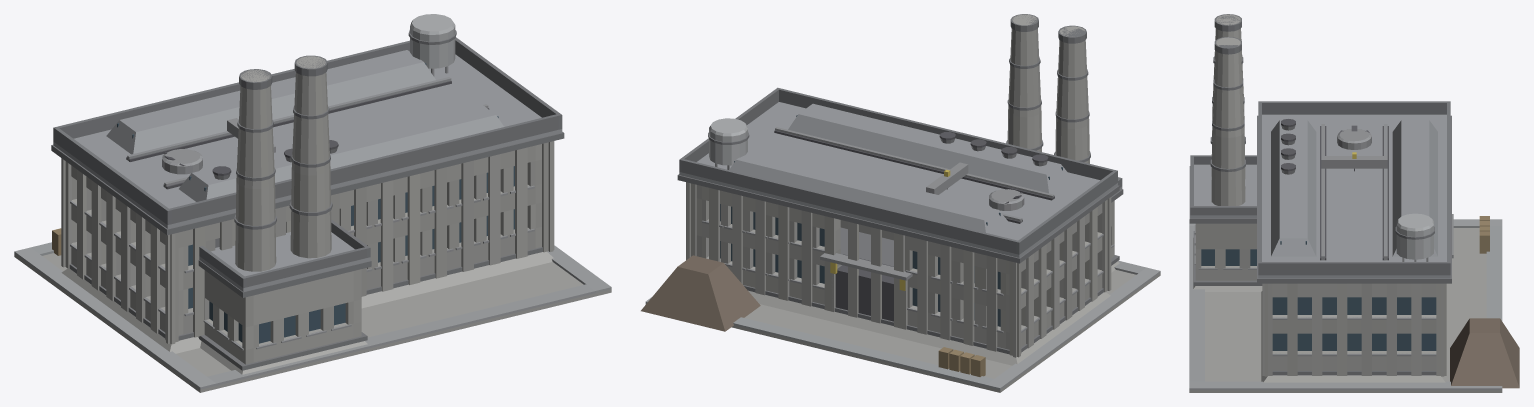
The model's file is soviet_factory.glb.
3 renders of one model, left to right at view 1: azimuth 30°, elevation 25°; view 2: azimuth 150°, elevation 25°; view 3: azimuth 270°, elevation 25°, orthographic. The views are drawn at different scales.
Visible parts, largest first — view 1: hall_piers, hall_wall, hall_deck, hall_parapet, apron, boiler_wall, mon_r_monitor, apron_rim, flue_r, barrel, mon_l_monitor, plinth (+13 smaller); view 2: hall_piers, hall_wall, hall_deck, hall_parapet, mon_l_monitor, mon_r_monitor, apron, coal, apron_rim, barrel, flue_r, plinth (+11 smaller); view 3: hall_deck, apron, hall_piers, hall_parapet, apron_rim, mon_l_monitor, hall_wall, flue_r, mon_r_monitor, coal, hall_glass, boiler_wall (+16 smaller).
Part boxes in pixels (x1=…): hall_piers: x1=61, y1=141, x2=554, y2=344; hall_wall: x1=71, y1=144, x2=541, y2=335; hall_deck: x1=53, y1=54, x2=562, y2=228; hall_parapet: x1=53, y1=37, x2=562, y2=224; apron: x1=14, y1=253, x2=611, y2=392; boiler_wall: x1=204, y1=269, x2=361, y2=364; mon_r_monitor: x1=106, y1=50, x2=435, y2=154; apron_rim: x1=14, y1=242, x2=611, y2=389; flue_r: x1=289, y1=55, x2=332, y2=258; barrel: x1=234, y1=69, x2=276, y2=271; mon_l_monitor: x1=179, y1=103, x2=503, y2=201; plinth: x1=61, y1=251, x2=553, y2=353; hall_piers: x1=686, y1=182, x2=1111, y2=357; hall_wall: x1=696, y1=185, x2=1102, y2=349; hall_deck: x1=679, y1=102, x2=1117, y2=257; hall_parapet: x1=679, y1=87, x2=1117, y2=254; mon_l_monitor: x1=788, y1=103, x2=1071, y2=193; mon_r_monitor: x1=729, y1=149, x2=1009, y2=234; apron: x1=645, y1=270, x2=1160, y2=392; coal: x1=641, y1=255, x2=760, y2=331; apron_rim: x1=645, y1=260, x2=1160, y2=389; barrel: x1=1054, y1=25, x2=1090, y2=163; flue_r: x1=1006, y1=14, x2=1043, y2=151; plinth: x1=748, y1=290, x2=1110, y2=365; hall_deck: x1=1258, y1=114, x2=1450, y2=278; apron: x1=1189, y1=228, x2=1502, y2=392; hall_piers: x1=1262, y1=283, x2=1446, y2=376; hall_parapet: x1=1258, y1=101, x2=1450, y2=275; apron_rim: x1=1189, y1=219, x2=1502, y2=390; mon_l_monitor: x1=1271, y1=120, x2=1316, y2=256; hall_wall: x1=1272, y1=283, x2=1436, y2=370; flue_r: x1=1210, y1=36, x2=1245, y2=205; mon_r_monitor: x1=1392, y1=120, x2=1437, y2=256; coal: x1=1450, y1=318, x2=1519, y2=388; hall_glass: x1=1272, y1=297, x2=1436, y2=350; boiler_wall: x1=1195, y1=223, x2=1256, y2=280.
Bounding box in the file's own units: 46 × 30 × 38.
